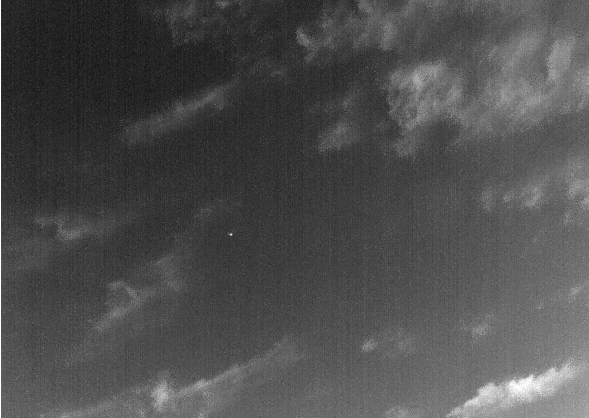dim target: (227, 231, 236, 238)
